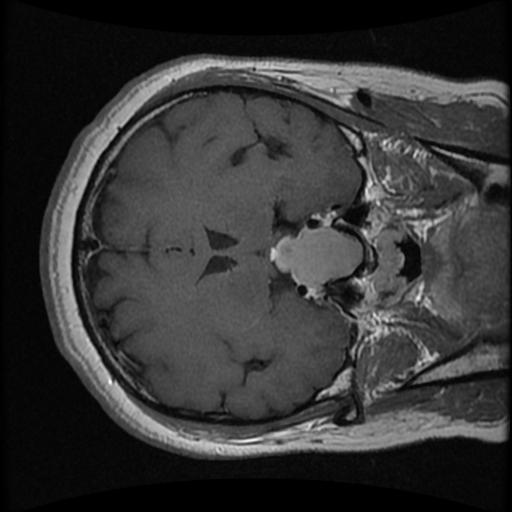pituitary tumour: (272, 227, 360, 286)
